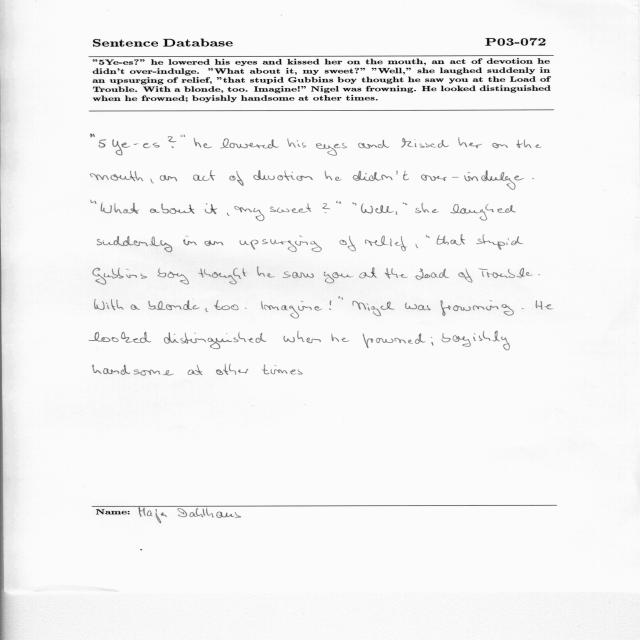word: (421, 170, 524, 190), (164, 332, 267, 349), (239, 235, 322, 252), (441, 331, 510, 350), (98, 236, 173, 252), (440, 300, 514, 316), (450, 204, 516, 221), (261, 301, 322, 318), (99, 140, 160, 156), (362, 333, 426, 348), (93, 268, 147, 285), (93, 365, 174, 376), (199, 268, 247, 284), (476, 234, 523, 250), (89, 332, 151, 343), (253, 170, 313, 181), (220, 138, 279, 149), (352, 301, 395, 316), (365, 236, 407, 251), (353, 171, 409, 181), (479, 268, 533, 278), (91, 171, 144, 181), (158, 268, 189, 285), (148, 300, 200, 310), (150, 203, 194, 214), (401, 138, 449, 148), (101, 202, 140, 214), (234, 206, 265, 221), (283, 331, 321, 343), (270, 203, 311, 213), (416, 268, 450, 280), (316, 143, 347, 156), (216, 364, 248, 375), (261, 365, 296, 375), (361, 204, 394, 214), (324, 272, 353, 283), (95, 299, 124, 310), (437, 235, 465, 246), (339, 236, 356, 251), (385, 268, 408, 279), (214, 300, 239, 310), (358, 140, 389, 148), (193, 170, 215, 181), (458, 138, 482, 148), (415, 203, 439, 213), (229, 171, 244, 186), (459, 268, 473, 283), (516, 140, 542, 148), (405, 303, 431, 311), (324, 170, 342, 181), (257, 267, 275, 278), (359, 268, 377, 279), (282, 272, 314, 278), (288, 138, 307, 148), (194, 138, 212, 148), (331, 333, 350, 342), (536, 301, 554, 310), (183, 236, 197, 246), (188, 365, 202, 375), (205, 204, 217, 215), (205, 240, 224, 246), (160, 175, 177, 181), (168, 136, 176, 148), (492, 143, 508, 148), (322, 203, 330, 213), (131, 304, 140, 310), (297, 370, 303, 375), (431, 337, 434, 346), (90, 134, 95, 138), (150, 179, 154, 184), (91, 200, 96, 204), (352, 202, 357, 206), (329, 300, 331, 310), (338, 296, 343, 300), (336, 201, 341, 204), (403, 202, 407, 205), (416, 244, 419, 248), (426, 235, 430, 238), (206, 308, 209, 312), (227, 213, 230, 216), (181, 135, 185, 137), (396, 211, 398, 215), (245, 307, 247, 309), (532, 178, 534, 179), (538, 274, 540, 275), (522, 308, 524, 309)
